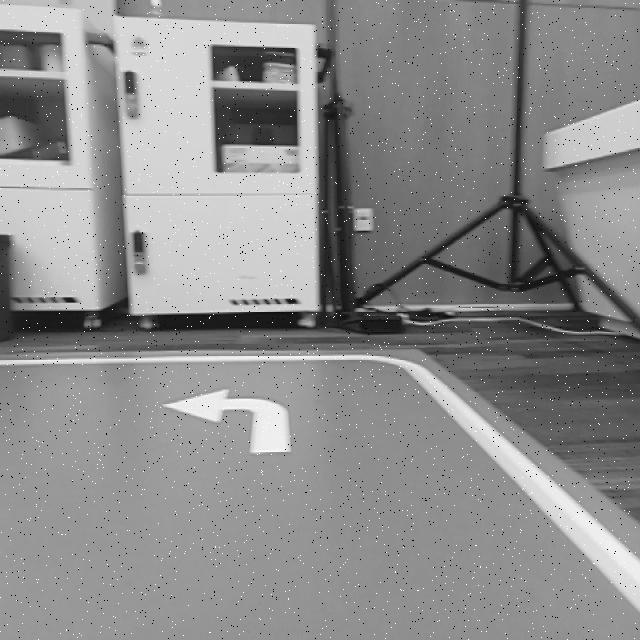right_lane: (403, 365, 639, 611)
